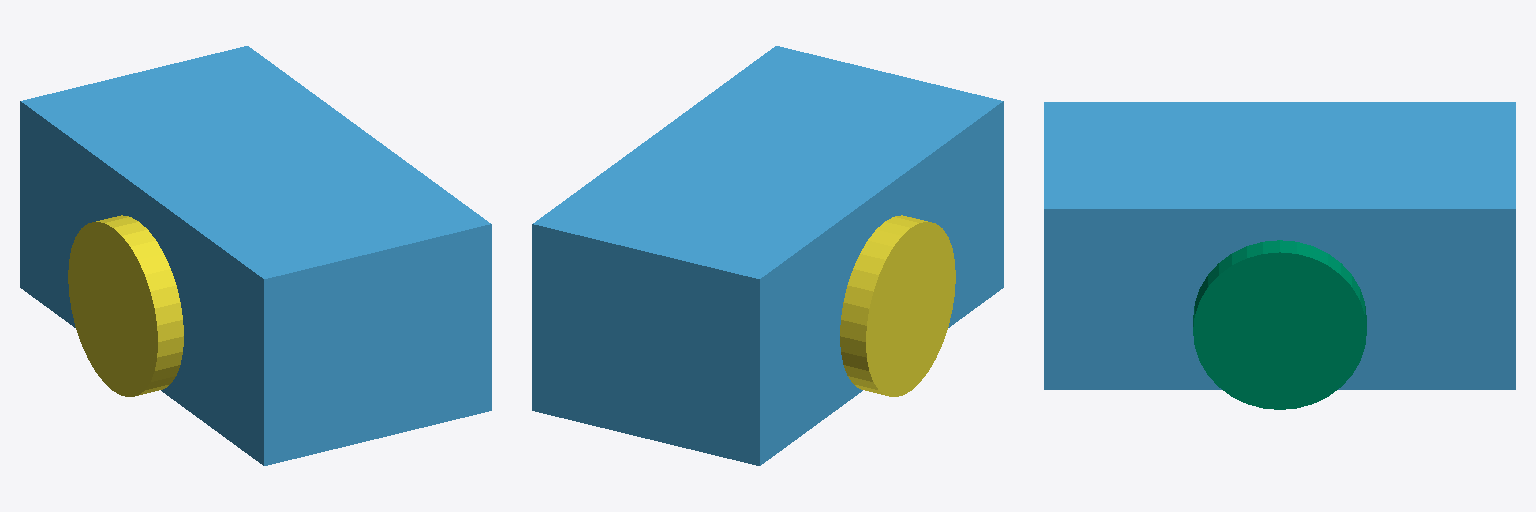
The robot description file, URDF, robot "SimpleMouse":
<?xml version="1.0" ?>
<!-- =================================================================================== -->
<!-- |    This document was autogenerated by xacro from robot.urdf.xacro               | -->
<!-- |    EDITING THIS FILE BY HAND IS NOT RECOMMENDED                                 | -->
<!-- =================================================================================== -->
<robot name="SimpleMouse">
  <link name="base_link"/>
  <link name="body">
    <visual>
      <geometry>
        <box size="0.07 0.13 0.055"/>
      </geometry>
    </visual>
  </link>
  <joint name="body_joint" type="fixed">
    <parent link="base_link"/>
    <child link="body"/>
    <origin rpy="0 0 0" xyz="0 0 0.0275"/>
  </joint>
  <link name="wheel_r">
    <visual>
      <geometry>
        <cylinder length="0.008" radius="0.024"/>
      </geometry>
    </visual>
  </link>
  <joint name="wheel_r_joint" type="continuous">
    <parent link="body"/>
    <child link="wheel_r"/>
    <origin rpy="0 1.5707963267948966 0" xyz="0.04 0 -0.005500000000000001"/>
    <axis xyz="0 0 1"/>
    <limit effort="10" velocity="10"/>
    <joint_properties damping="0.0" friction="0.0"/>
  </joint>
  <link name="wheel_l">
    <visual>
      <geometry>
        <cylinder length="0.008" radius="0.024"/>
      </geometry>
    </visual>
  </link>
  <joint name="wheel_l_joint" type="continuous">
    <parent link="body"/>
    <child link="wheel_l"/>
    <origin rpy="0 1.5707963267948966 0" xyz="-0.04 0 -0.005500000000000001"/>
    <axis xyz="0 0 1"/>
    <limit effort="10" velocity="10"/>
    <joint_properties damping="0.0" friction="0.0"/>
  </joint>
</robot>

--- Render facts (derived) ---
3 views of the same robot in one strip: view 1: azimuth 30°, elevation 25°; view 2: azimuth 150°, elevation 25°; view 3: azimuth 270°, elevation 25° (orthographic).
Model SimpleMouse with 4 links and 3 joints (2 continuous, 1 fixed), rooted at base_link, posed every joint at zero.
Visible links, largest first — view 1: body, wheel_l; view 2: body, wheel_l; view 3: body, wheel_r.
Link boxes in pixels (<box>): body: <box>20,46,491,465</box>; wheel_l: <box>68,215,183,396</box>; body: <box>532,46,1003,465</box>; wheel_l: <box>840,215,955,396</box>; body: <box>1044,102,1515,389</box>; wheel_r: <box>1193,240,1366,409</box>.
Bounding box of the posed robot: 0.088 × 0.13 × 0.057 m (x, y, z).
Geometry: primitives only (box / cylinder / sphere), no mesh files.